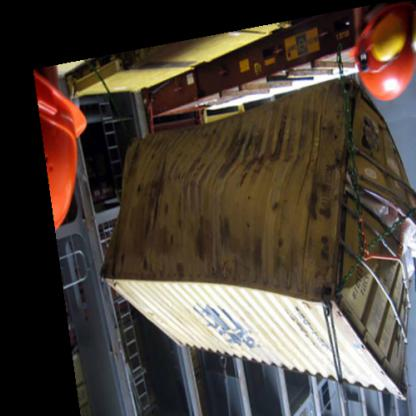Damage: (215, 104, 329, 171), (343, 183, 415, 285)
